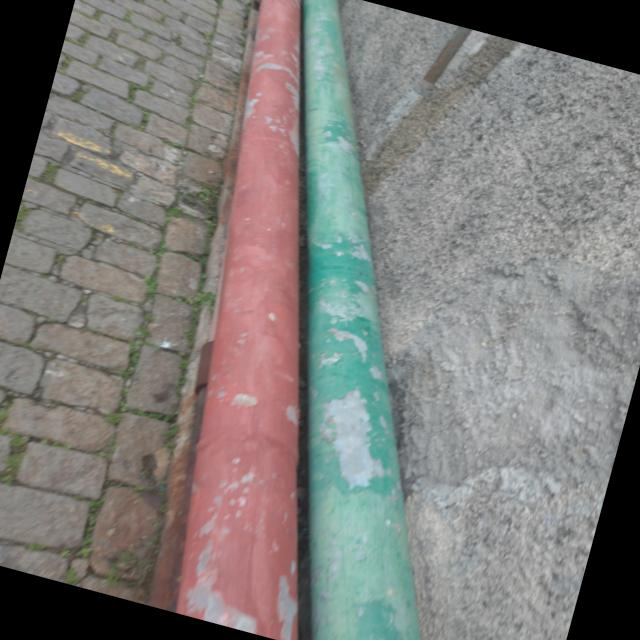gas: (181, 0, 300, 640), (307, 0, 425, 640)
